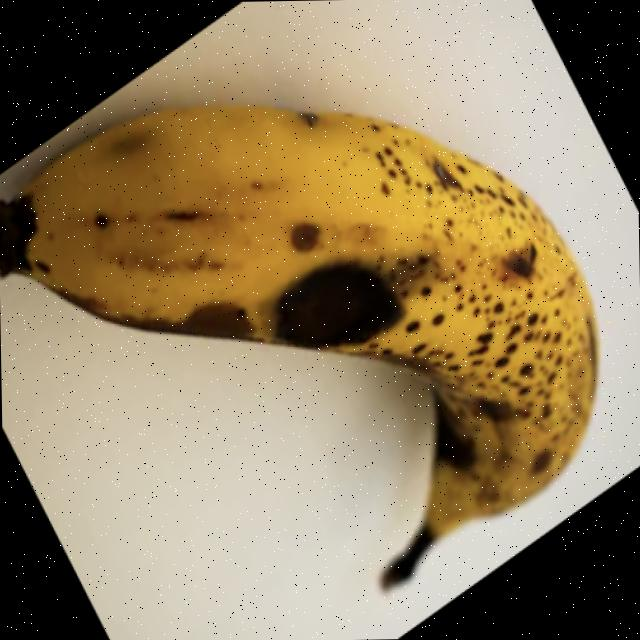overripe: (0, 96, 605, 599)
